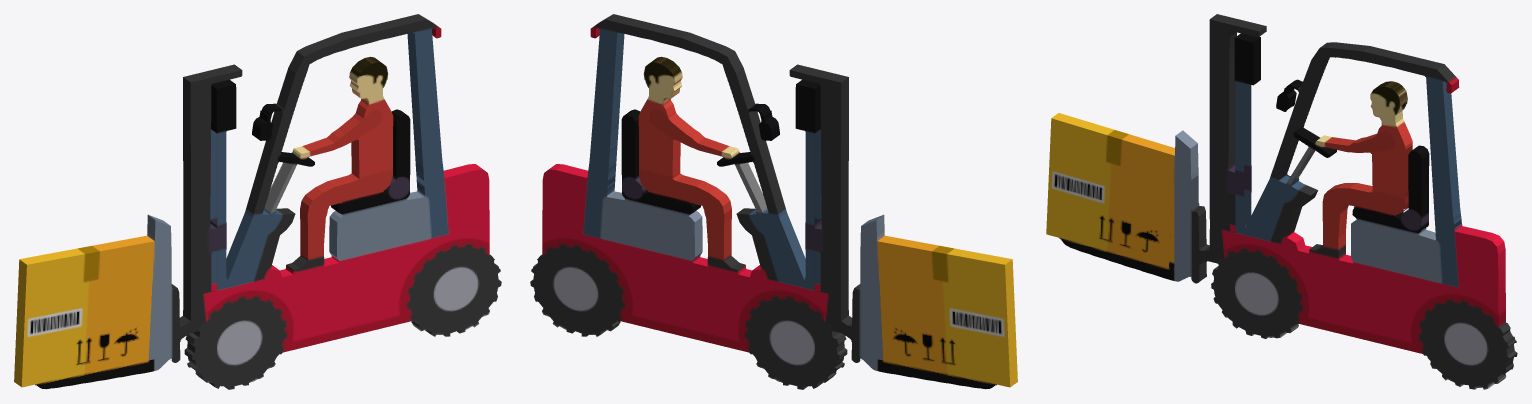
The model's file is ElevatorToken3.FBX.
3 renders of one model, left to right at view 1: azimuth 30°, elevation 25°; view 2: azimuth 150°, elevation 25°; view 3: azimuth 330°, elevation 25°, orthographic. The views are drawn at different scales.
Parts seen in each view (by area): view 1: Line002; view 2: Line002; view 3: Line002.
Part boxes in pixels (left/top/right/bottom): Line002: left=14, top=14, right=501, bottom=389; Line002: left=530, top=14, right=1017, bottom=389; Line002: left=1046, top=14, right=1517, bottom=389.
Bounding box in the file's own units: 154 × 98.89 × 4.27.
1 material, 1 textured.
